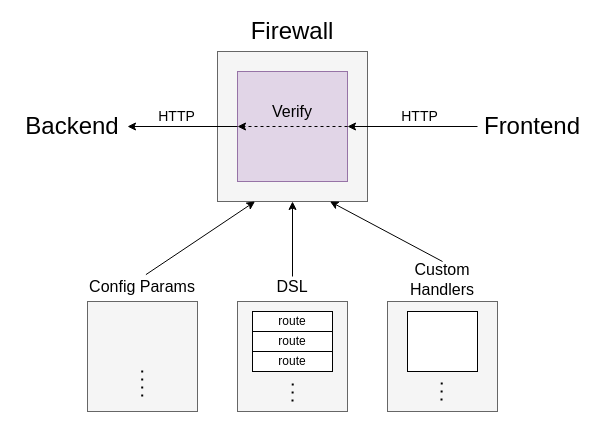
This 604x429 diagram has some shape labels left out. Here are the shapes that lost their labels. From the top down, the centre of each, then its label:
point 142,356: Address Input Type Context Getters
point 442,341: Custom Go Code
